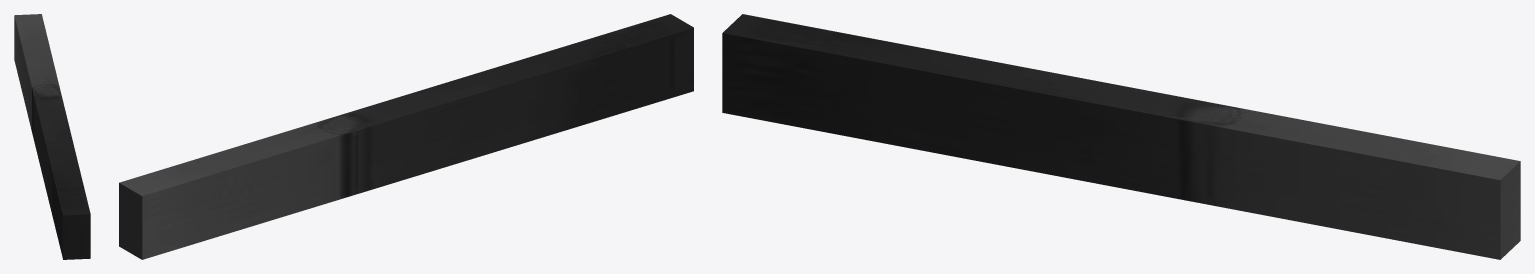
The model's file is support_link__support_arm.glb.
3 views of the same model, side by side, from view 1: azimuth 30°, elevation 25°; view 2: azimuth 150°, elevation 25°; view 3: azimuth 270°, elevation 25° (orthographic). The views are drawn at different scales.
Parts seen in each view (by area): view 1: world; view 2: world; view 3: world.
Part boxes in pixels (x1,y1,x2,y2): world: [14, 14, 90, 259]; world: [119, 14, 693, 259]; world: [722, 14, 1520, 259].
Size of the model in its own units: 0.1431 by 0.032 by 0.2903.
Materials: 1 (1 with a texture image).
